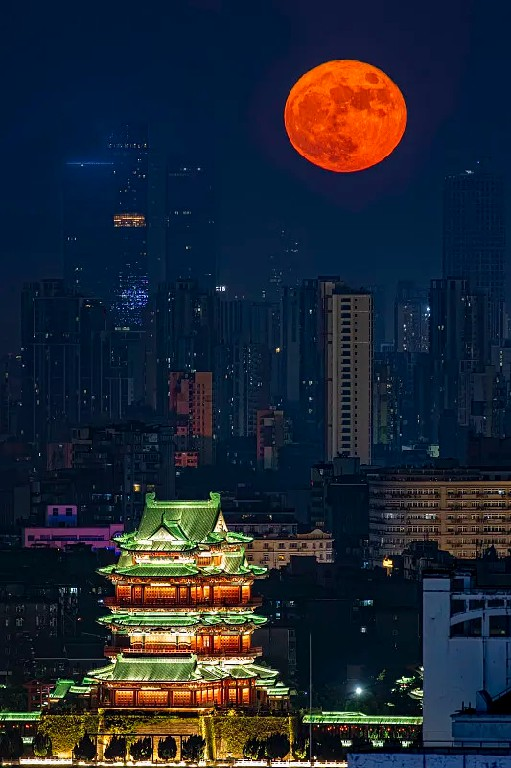Teng: (49, 493, 291, 709)
